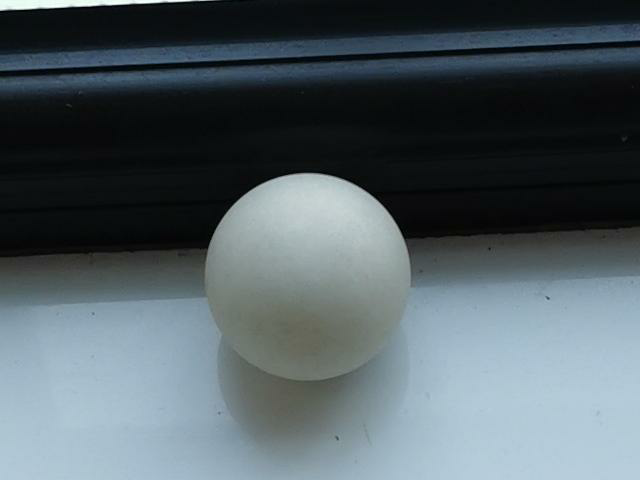ball: (204, 173, 411, 383)
